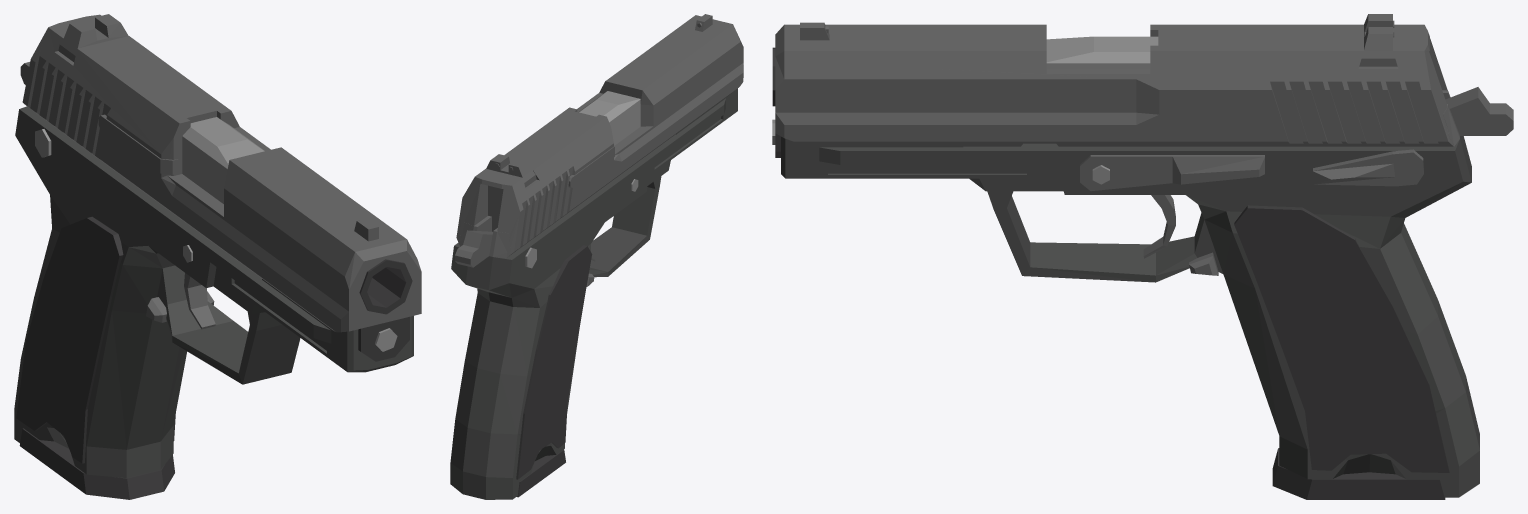
Rendered from SM_USP_001.glb.
3 renders of one model, left to right at view 1: azimuth 30°, elevation 25°; view 2: azimuth 150°, elevation 25°; view 3: azimuth 270°, elevation 25°, orthographic. The views are drawn at different scales.
Visible parts, largest first — view 1: SM_USP_001; view 2: SM_USP_001; view 3: SM_USP_001.
Part boxes in pixels (x1,y1,x2,y2): SM_USP_001: (14, 14, 421, 499); SM_USP_001: (450, 14, 743, 499); SM_USP_001: (772, 14, 1513, 499).
Size of the model in its own units: 0.0344 by 0.1447 by 0.2144.
Materials: 1 (1 with a texture image).
